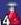potion: (1, 0, 21, 25)
